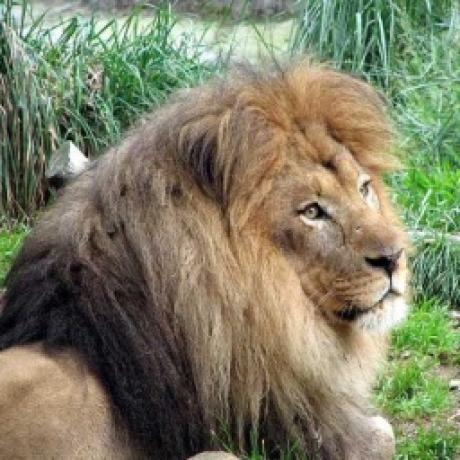Lion: (0, 66, 411, 459)
